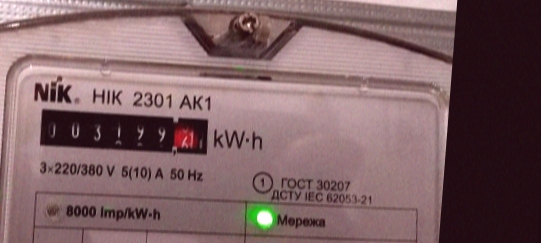0: (70, 121, 82, 141), (47, 120, 57, 139)
1: (114, 122, 124, 140)
3: (92, 123, 103, 144)
6: (180, 135, 191, 149)
9: (135, 122, 146, 143), (157, 126, 168, 145)
screen: (32, 98, 217, 166)
